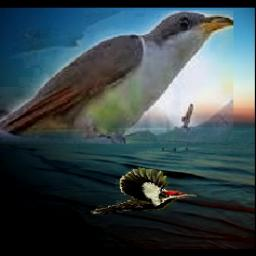Cuckoo: (0, 11, 233, 145)
Woodpecker: (91, 167, 197, 214)
